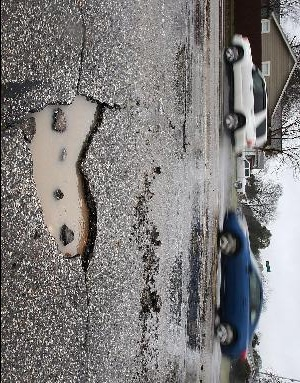pothole: (24, 91, 105, 269), (184, 225, 203, 349), (203, 0, 212, 42)
